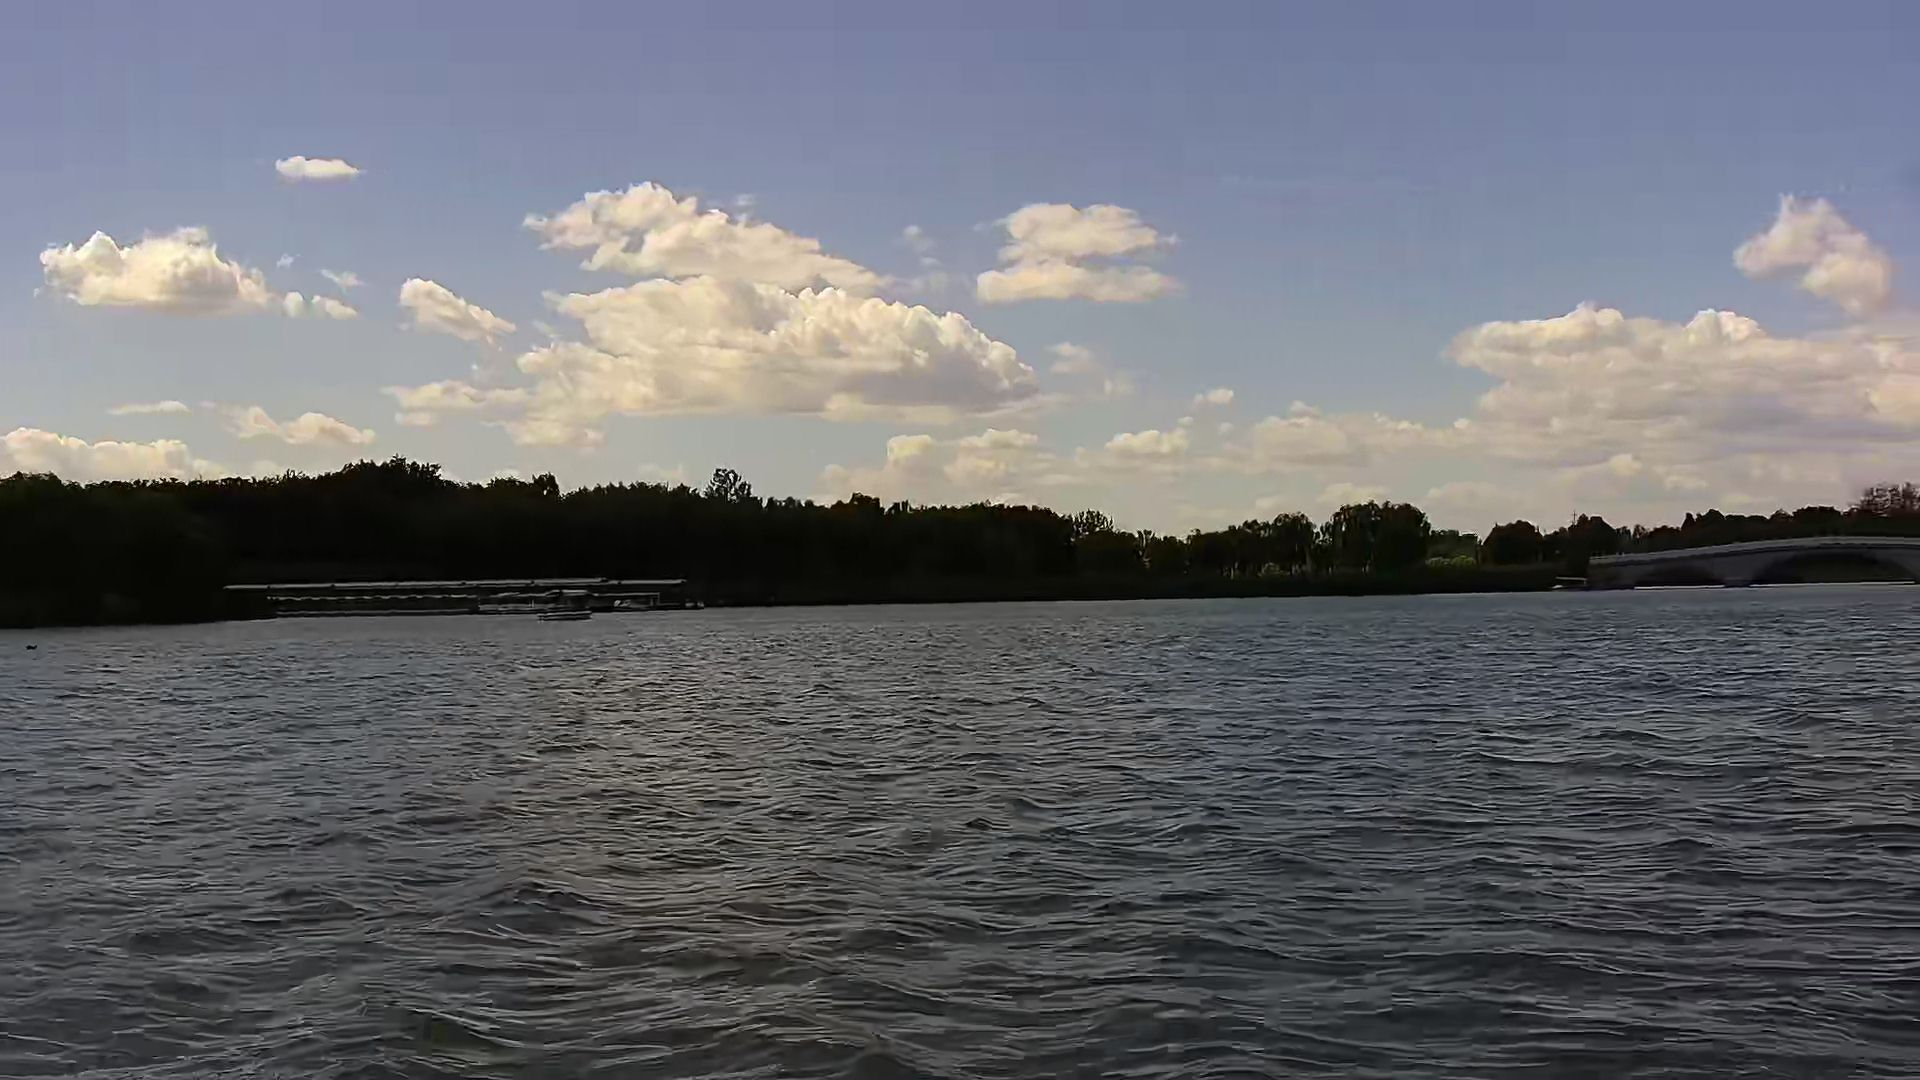boat: (537, 589, 597, 622)
bridge: (1588, 533, 1920, 592)
harbor: (225, 572, 705, 618)
